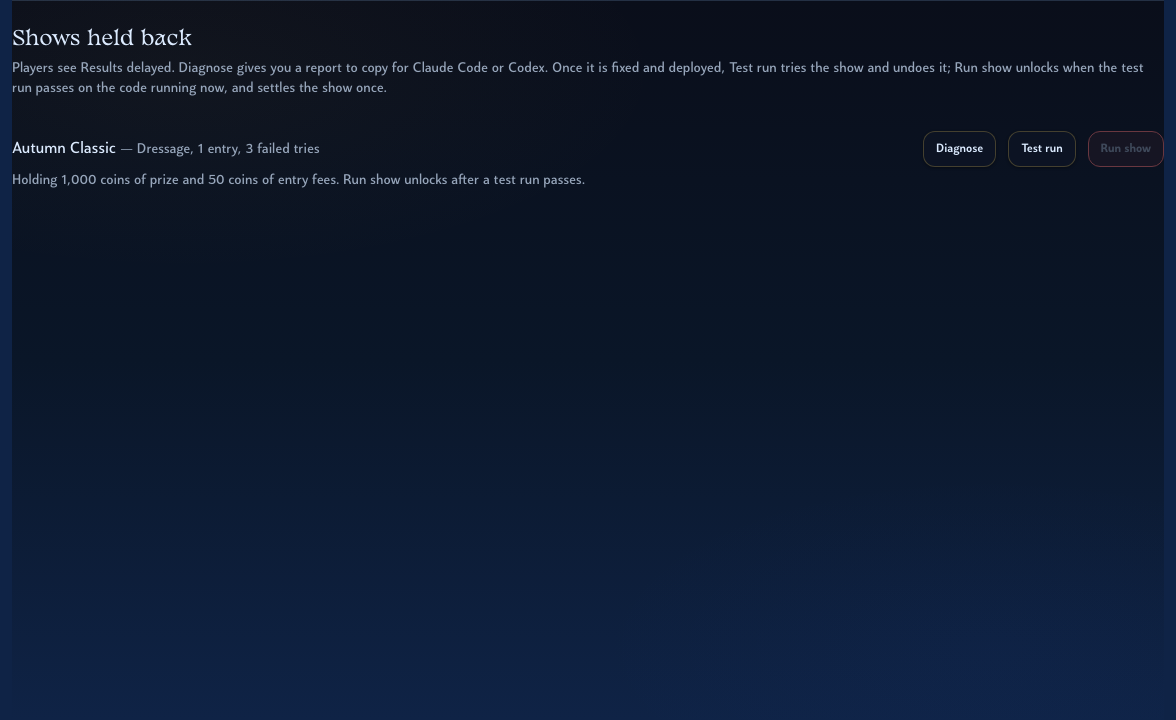
Test case: StaffQuarantinedShows › Diagnose shows the report and Copy report puts it on the clipboard
Step 1. Click the button with aria-label "Diagnose Autumn Classic" → (960, 149), box [923, 131, 996, 167]
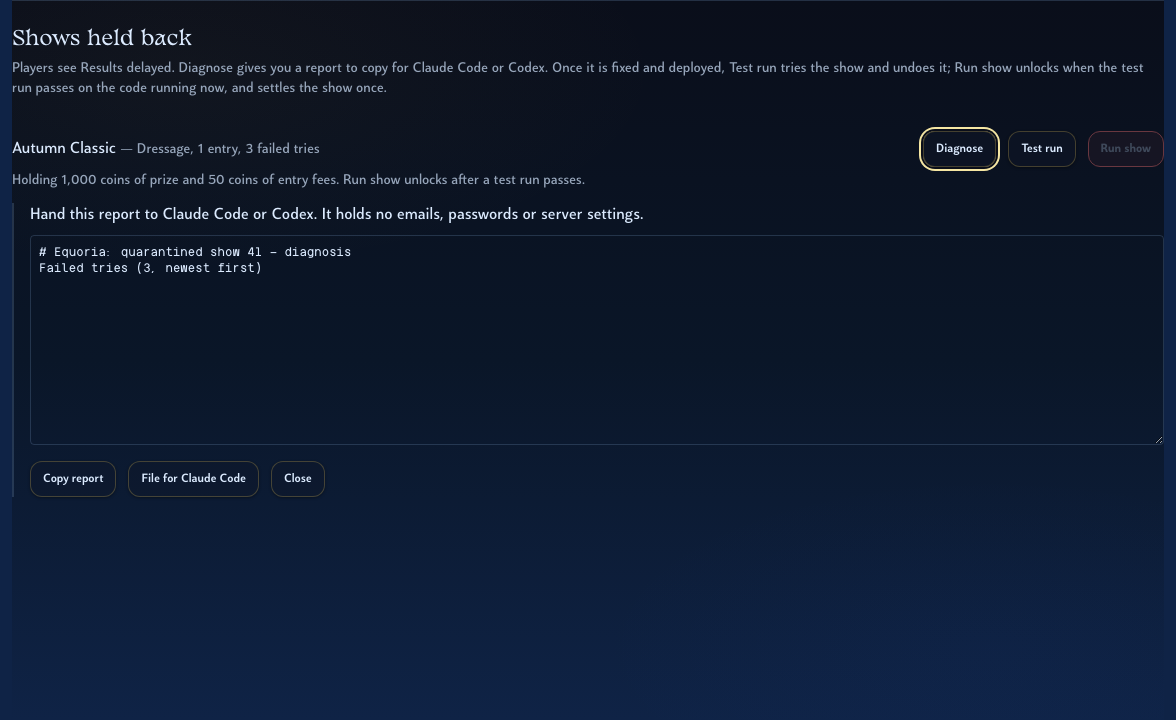
Step 2. Click the button "Copy report" → (73, 479), box [30, 461, 116, 497]
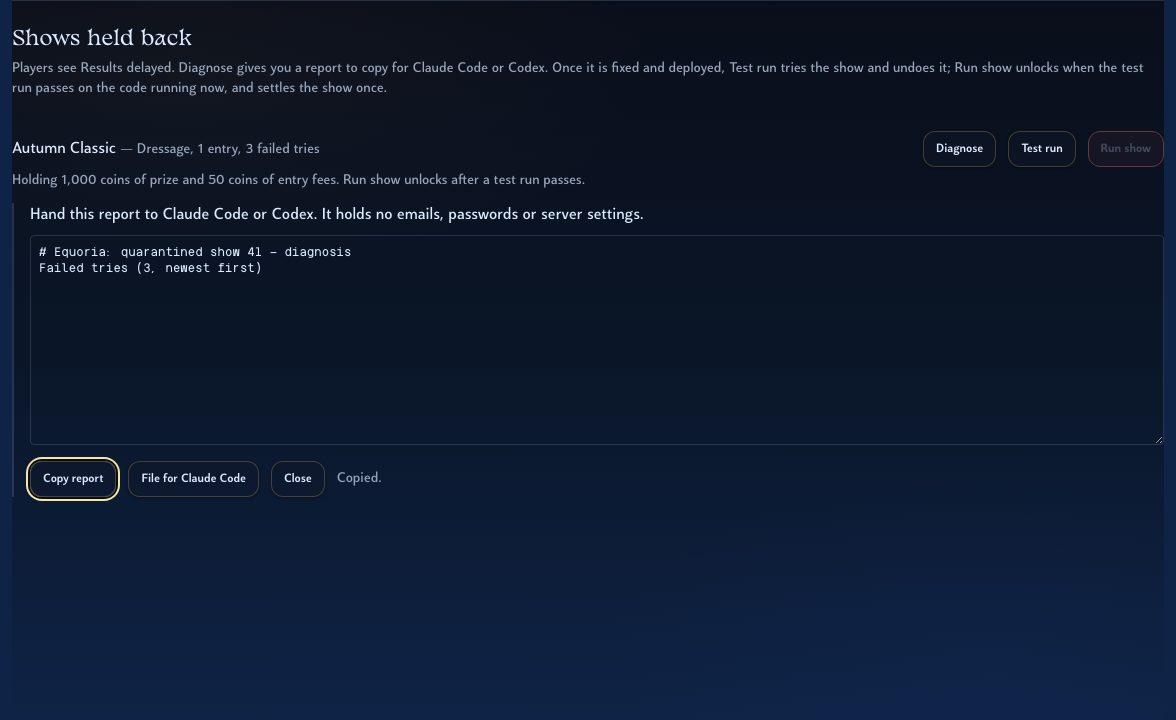
Expected: the text "Copied." is shown, [337, 469, 382, 489]
